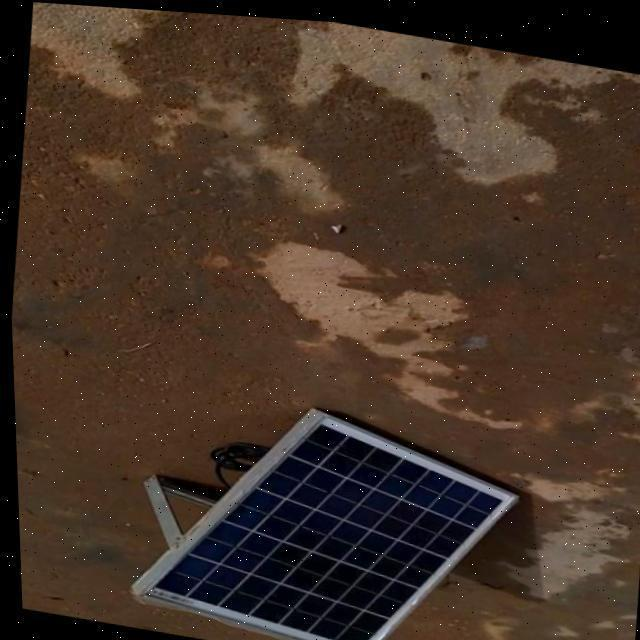Normal Solar Panel: (116, 377, 524, 640)
